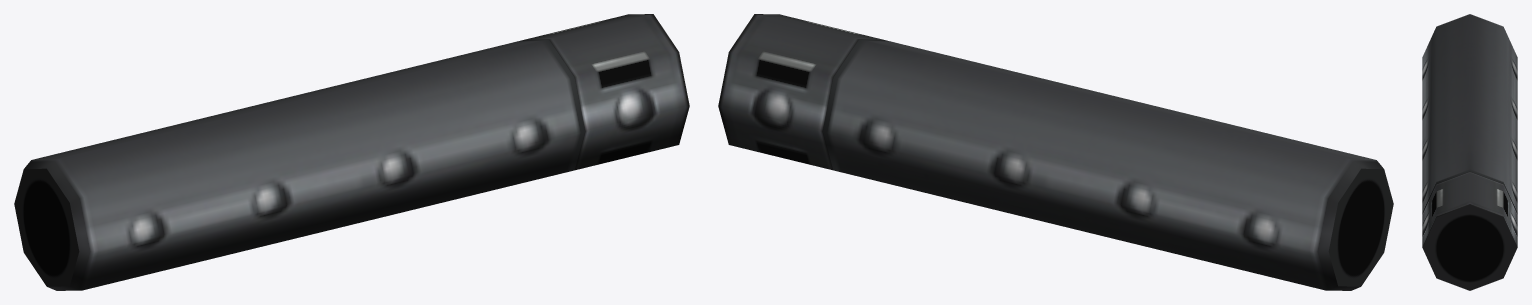
File: Legend_HeavyBarrel_Base_4_Mod.FBX
3 views of the same model, side by side, from view 1: azimuth 30°, elevation 25°; view 2: azimuth 150°, elevation 25°; view 3: azimuth 270°, elevation 25° (orthographic). The views are drawn at different scales.
Parts seen in each view (by area): view 1: Legend_HeavyBarrel_Base_4_Mod; view 2: Legend_HeavyBarrel_Base_4_Mod; view 3: Legend_HeavyBarrel_Base_4_Mod.
Boxes of the visible parts, x1,y1,x2,y2 form: Legend_HeavyBarrel_Base_4_Mod: (14, 14, 689, 290); Legend_HeavyBarrel_Base_4_Mod: (718, 14, 1393, 290); Legend_HeavyBarrel_Base_4_Mod: (1422, 14, 1517, 290).
Bounding box in the file's own units: 30.1 × 6.23 × 6.23.
